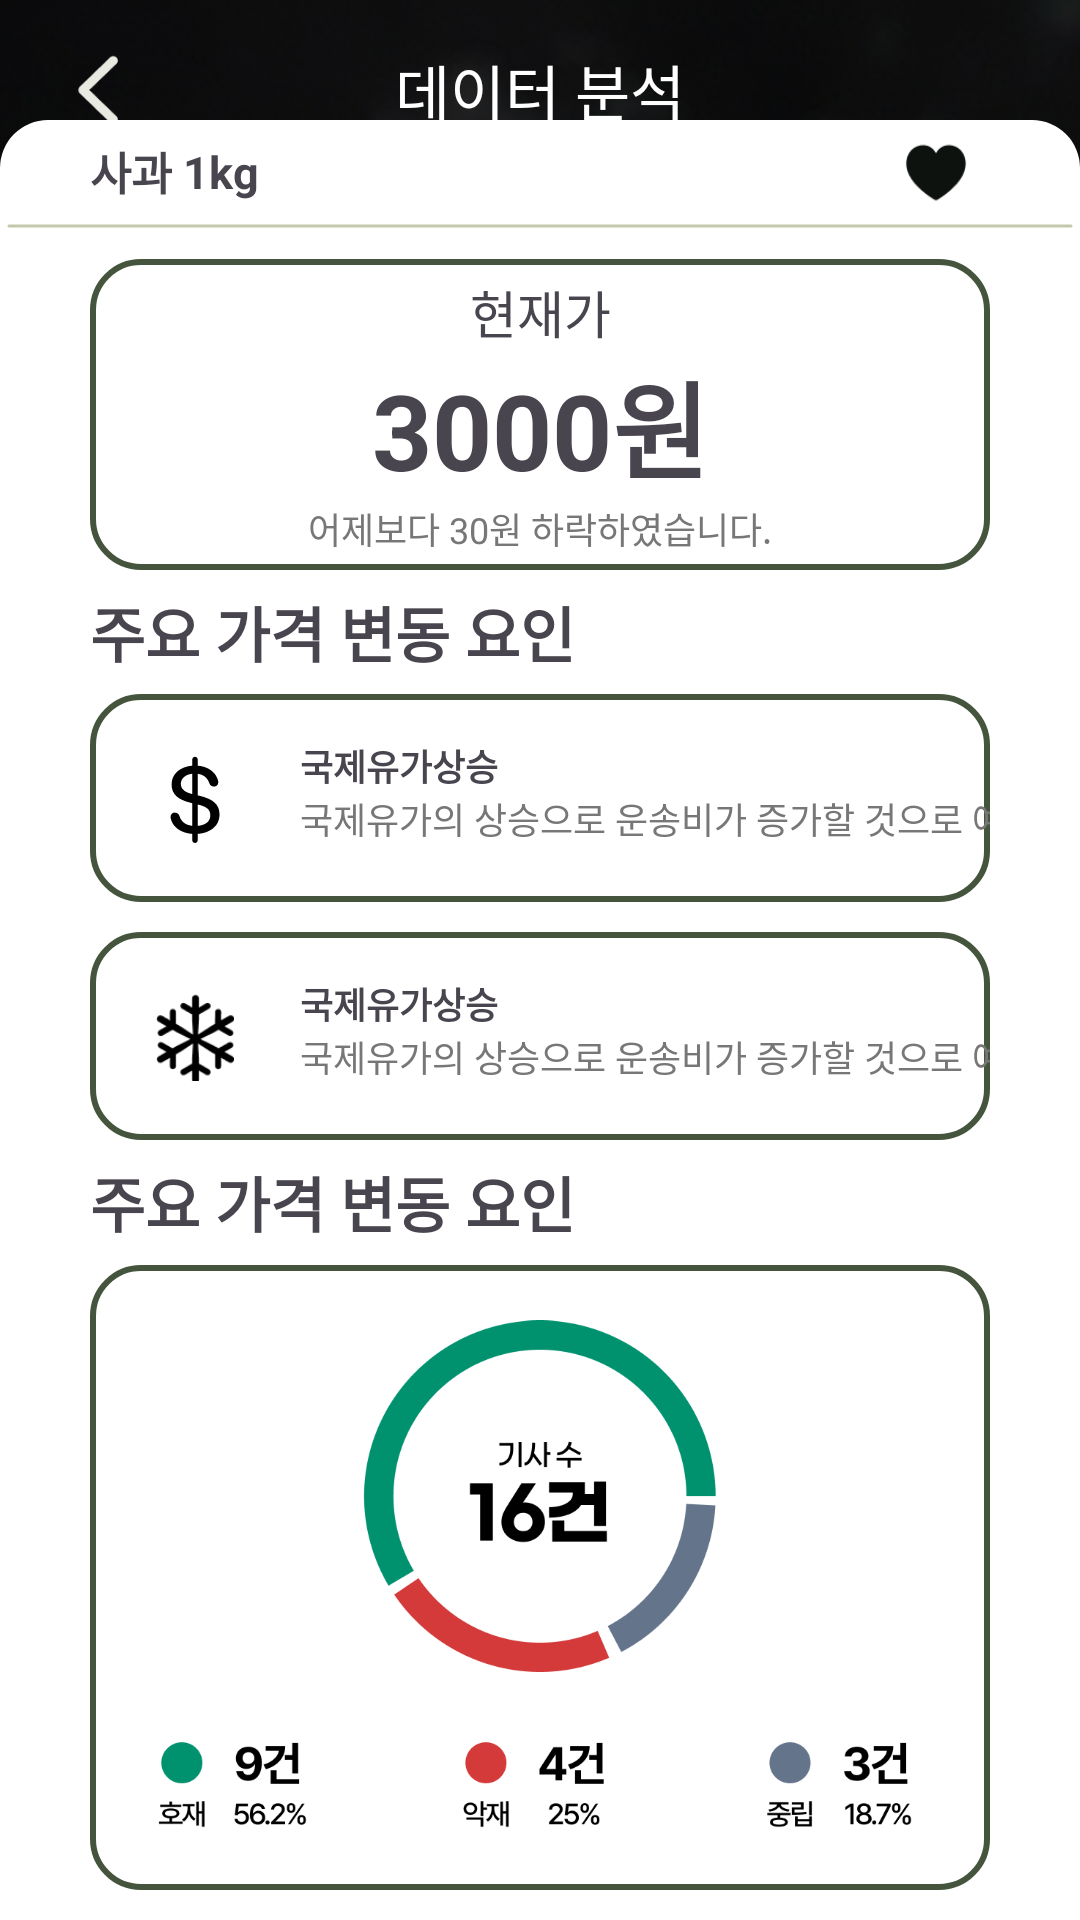

Icons on this 1080 x 1920 Android screen, each with the point to tap as [x,y]:
dollar: [195,799]
snow: [195,1037]
